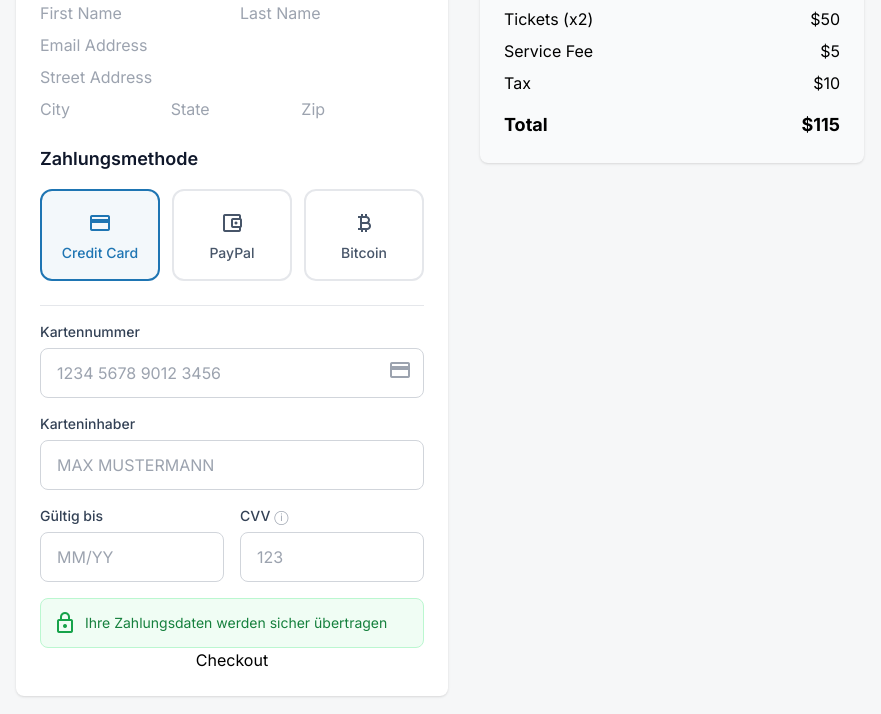
Test: CheckoutPage – Checkout Flow › completes checkout and shows confirmation screen with order id
(page scrolled)
Click the button with test id "checkout-btn": (232, 660) [40,648,424,672]
(page scrolled)
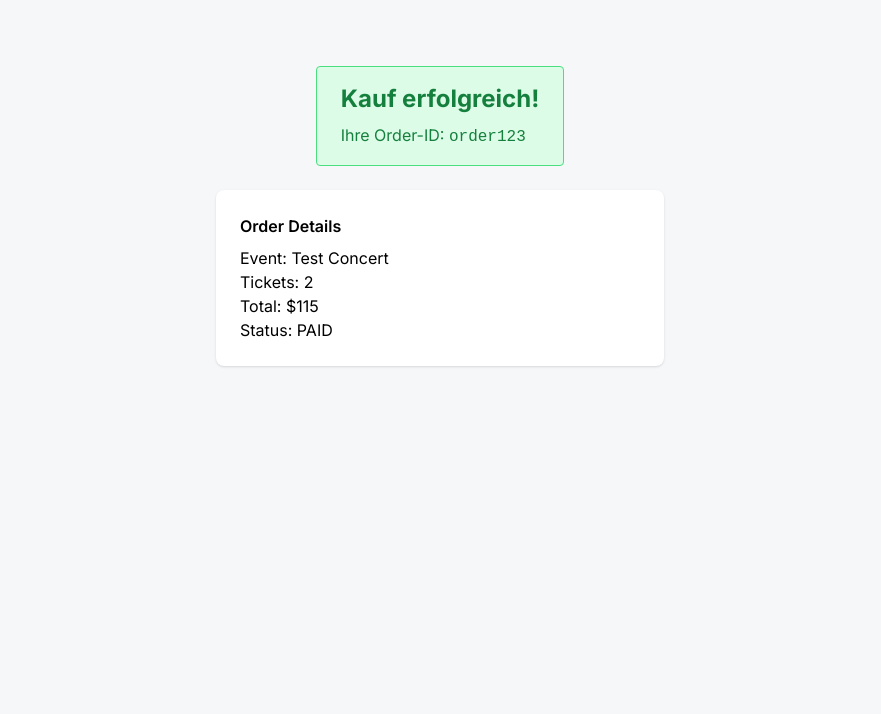
Check: the heading "Kauf erfolgreich!" is shown, box [341,83,539,115]
Check: the text "order123" is shown, box [449,128,526,146]
